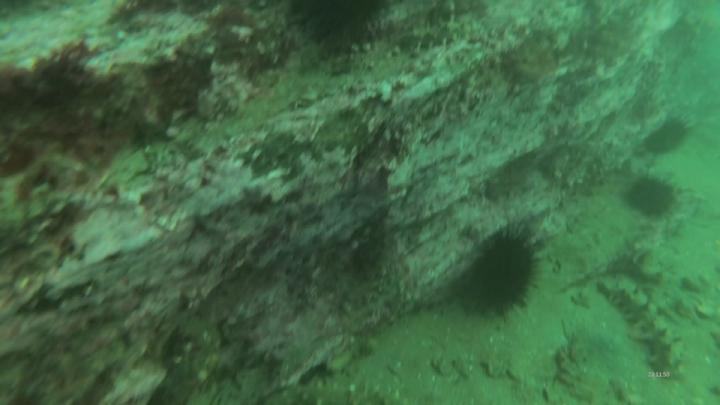echinus: (461, 210, 555, 324), (284, 1, 394, 59), (623, 166, 685, 221), (638, 109, 695, 160)
holothurian: (605, 282, 694, 387), (392, 16, 472, 50)
